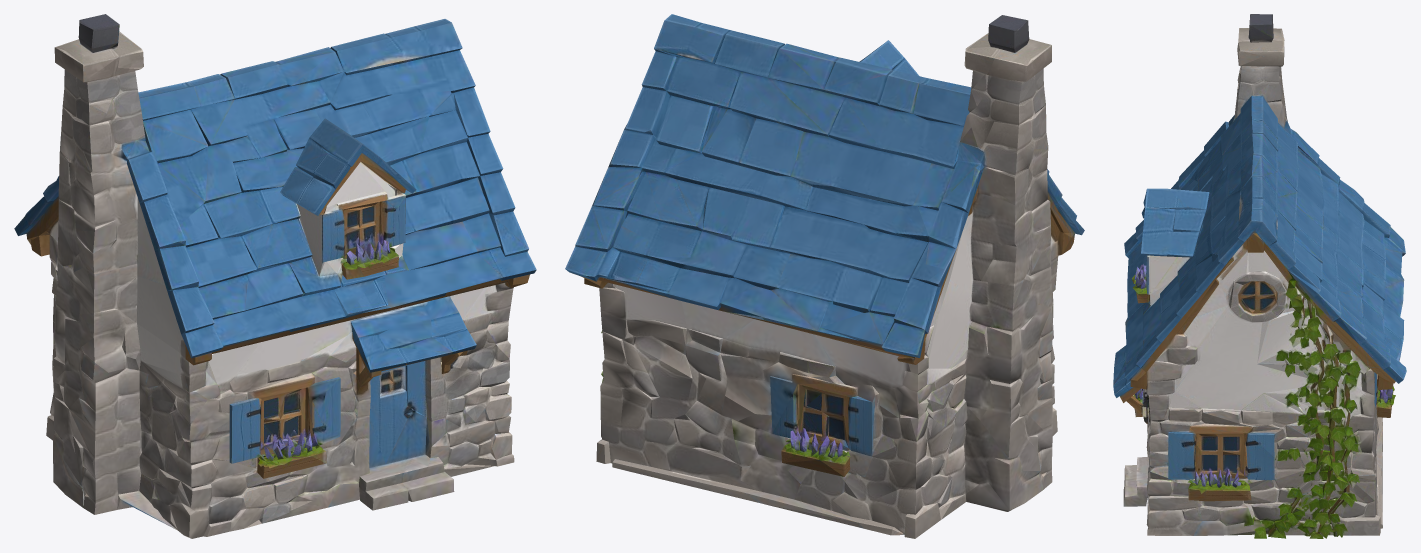
The model's file is town_house_b.glb.
The picture shows the model from 3 angles, left to right: view 1: azimuth 30°, elevation 25°; view 2: azimuth 150°, elevation 25°; view 3: azimuth 270°, elevation 25°; orthographic projection. The views are drawn at different scales.
Size of the model in its own units: 1.65 by 1.9 by 1.32.
Materials: 1 (1 with a texture image).
